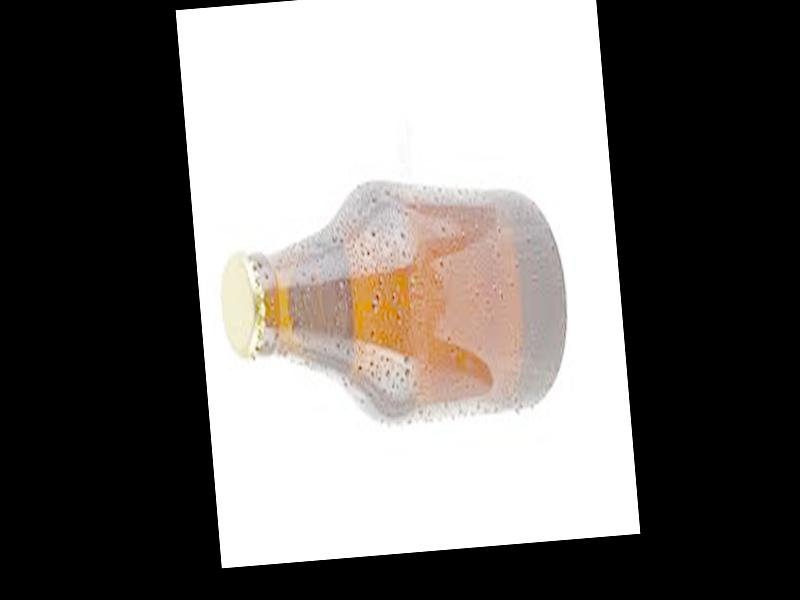Beer: (214, 184, 573, 432)
